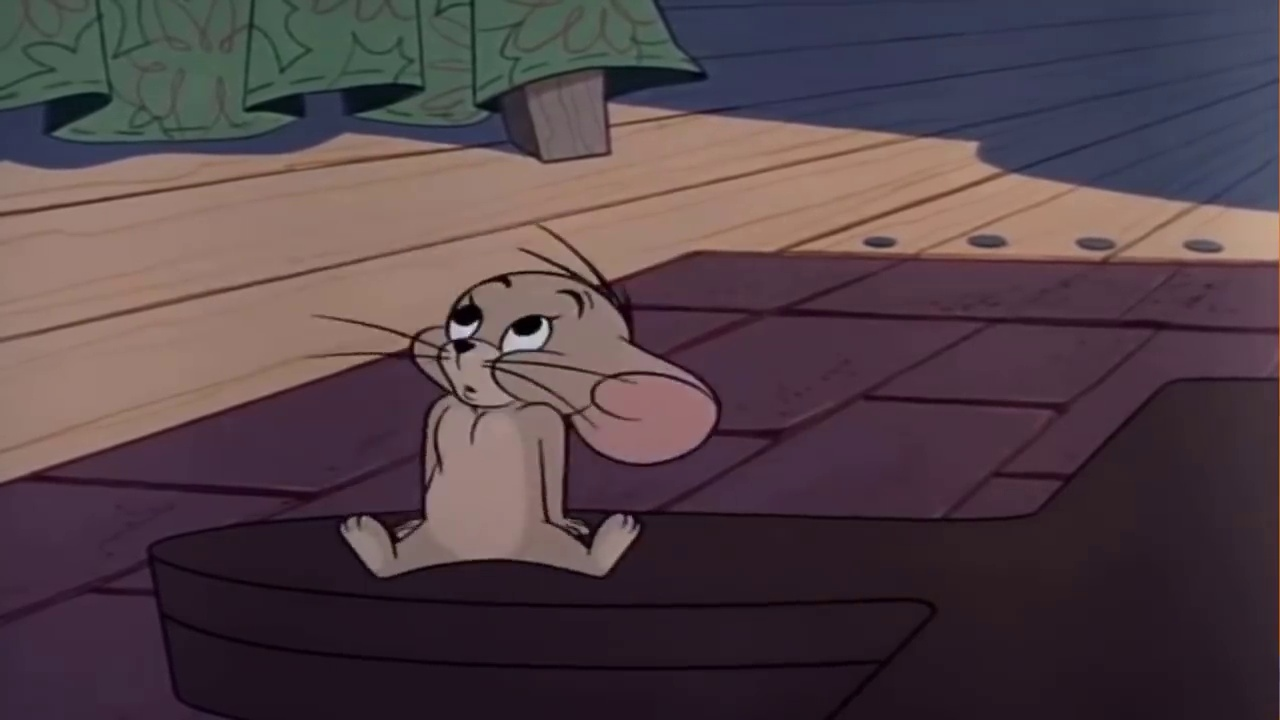face: (432, 275, 596, 404)
